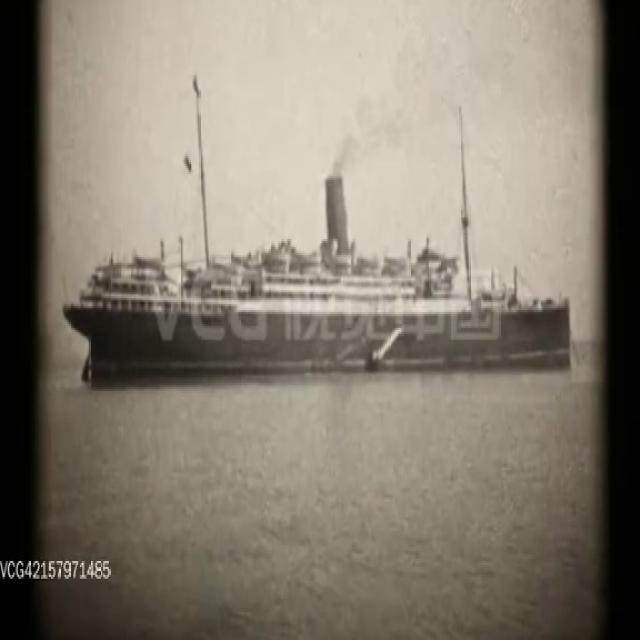passenger ship: (64, 169, 579, 378)
